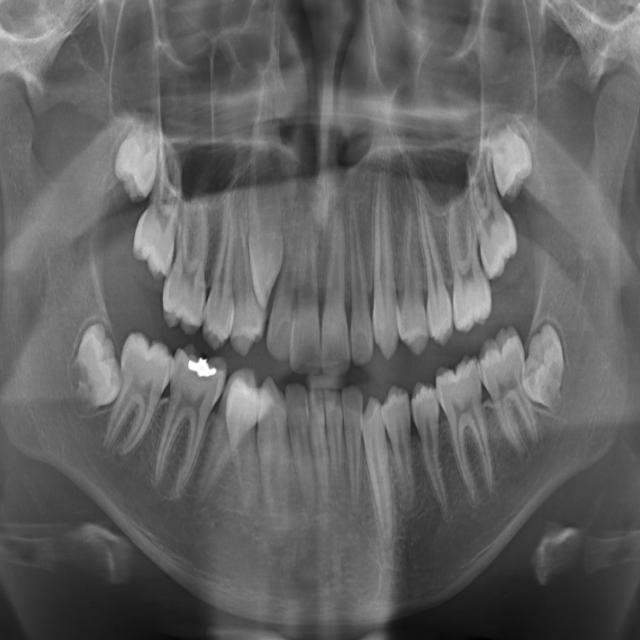AmalgamRestoration: (186, 356, 218, 382)
ImpactedTooth: (252, 183, 286, 305)
